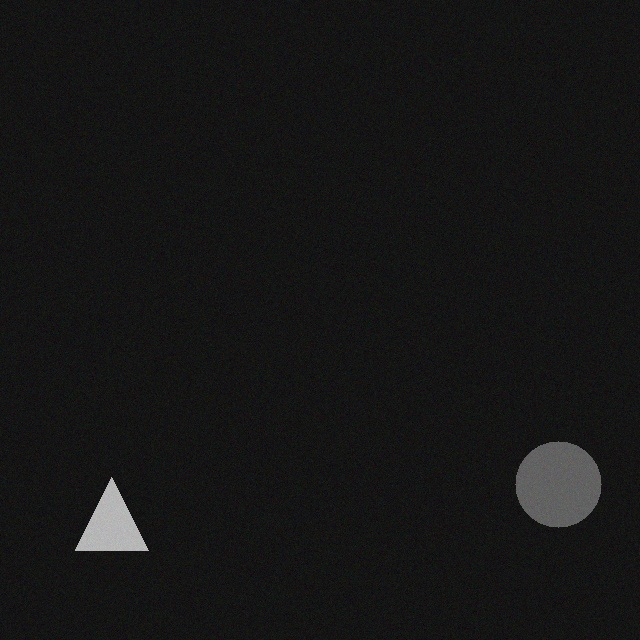circle: (502, 454, 588, 540)
triangle: (62, 490, 135, 563)
